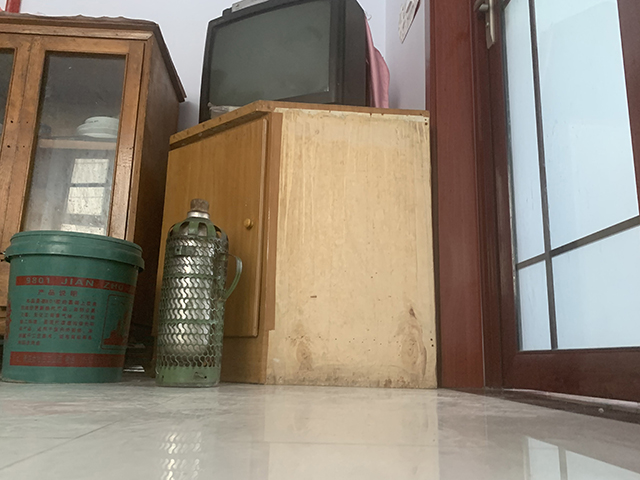cabinet: (150, 98, 438, 389), (1, 9, 187, 378)
